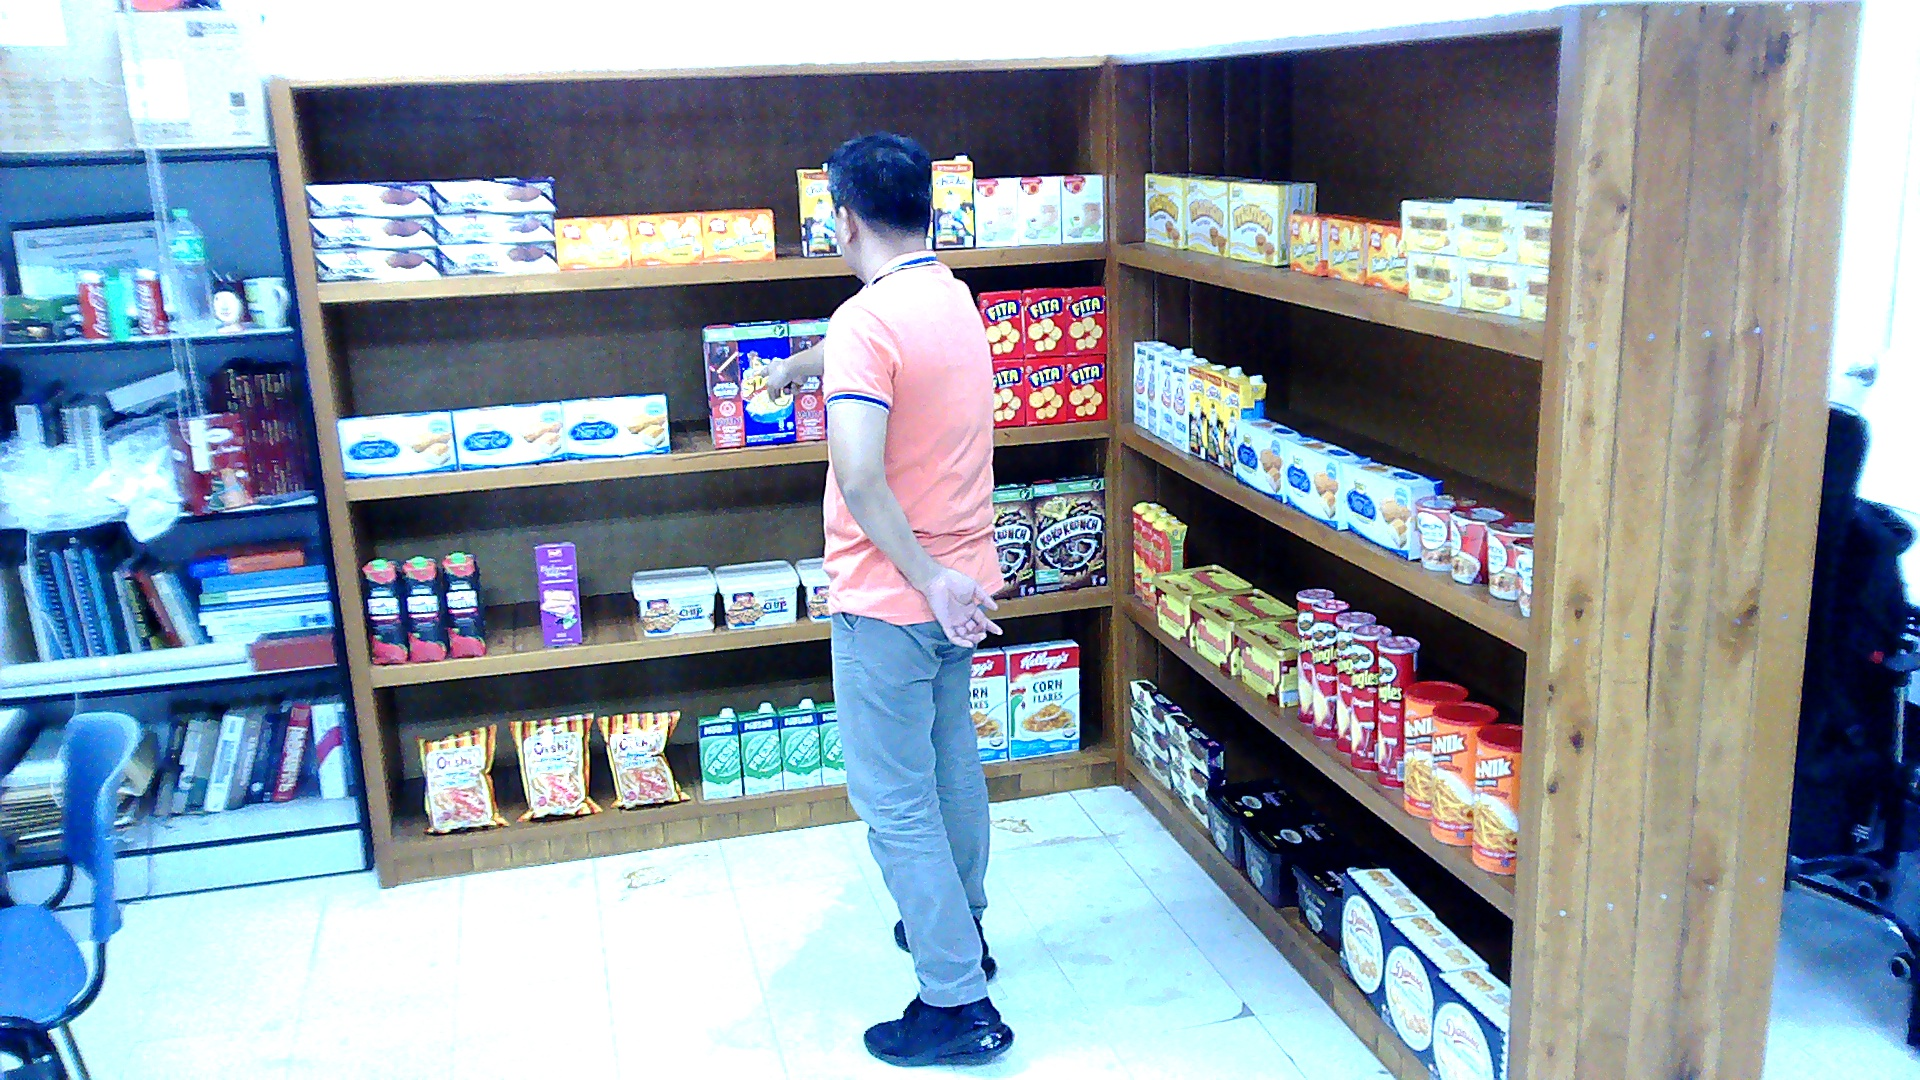Bear brand: (1170, 355, 1206, 452), (1158, 349, 1191, 441), (1134, 340, 1164, 428), (1145, 344, 1172, 434)
Buttercake: (1341, 459, 1440, 560), (1283, 434, 1370, 528), (453, 400, 567, 468), (336, 411, 453, 476), (561, 393, 669, 456), (1236, 416, 1305, 502)
Butterlicious: (552, 214, 630, 268), (627, 211, 702, 265), (1287, 211, 1350, 274), (1326, 216, 1386, 284), (699, 209, 774, 261), (1367, 220, 1406, 292)
Camomille: (1455, 198, 1518, 263), (1461, 261, 1521, 315), (1401, 200, 1455, 254), (1407, 254, 1461, 306), (1515, 202, 1551, 265), (1521, 268, 1548, 322)
Choco Crunchies: (429, 178, 555, 214), (312, 245, 438, 281), (308, 214, 437, 248), (306, 182, 432, 216), (438, 241, 555, 275), (431, 211, 554, 243), (1164, 711, 1224, 776), (1166, 740, 1223, 799), (1131, 677, 1182, 736), (1169, 767, 1208, 830), (1131, 731, 1170, 790), (1131, 707, 1167, 763)
Chocolate Chips: (629, 565, 716, 635), (711, 558, 798, 628)
Chuckie: (1224, 375, 1266, 474), (798, 162, 840, 256), (930, 153, 972, 247), (1206, 366, 1242, 467), (1188, 362, 1224, 459)
Danisa: (1380, 913, 1488, 1064), (1338, 868, 1434, 1012), (1425, 964, 1509, 1077)
Fita: (975, 290, 1023, 358), (1020, 288, 1065, 358), (1023, 355, 1065, 423), (1065, 353, 1104, 421), (1065, 288, 1104, 353), (993, 360, 1023, 425)
Fresh Milk: (735, 702, 783, 794), (696, 709, 741, 799), (777, 697, 819, 787), (812, 701, 845, 782)
Grahams: (1238, 807, 1355, 906), (1290, 846, 1398, 954), (1202, 776, 1307, 868)
Hansel: (1190, 587, 1295, 675), (1151, 564, 1250, 645), (1233, 614, 1296, 706)
Head: (825, 126, 936, 283)
Honey Stars: (699, 320, 795, 448)
Kellogg Corn Flakes: (998, 639, 1079, 758), (969, 645, 1008, 762)
Kimchi Noodles: (1449, 503, 1512, 582), (1416, 495, 1476, 569), (1485, 517, 1533, 598), (1512, 535, 1533, 616)
Koko Krunch: (1022, 472, 1103, 591), (993, 481, 1035, 598)
Locally Mango: (1130, 502, 1163, 596), (1143, 510, 1173, 611), (1152, 518, 1185, 572)
Mamon: (1230, 178, 1314, 266), (1188, 175, 1260, 256), (1146, 171, 1203, 247)
Oishi Prawn: (507, 711, 603, 819), (414, 722, 507, 832), (596, 708, 689, 809)
Pik-nik: (1428, 700, 1497, 844), (1403, 679, 1466, 819), (1469, 722, 1520, 873)
Pringles: (1377, 636, 1419, 787), (1349, 623, 1388, 769), (1335, 612, 1374, 752), (1295, 587, 1334, 724), (1311, 598, 1347, 738)
Super Fruits: (362, 558, 407, 664), (440, 551, 485, 657), (402, 556, 444, 662)
Wafer: (534, 540, 582, 643)
iHop: (1059, 173, 1101, 243), (975, 177, 1017, 245), (1017, 175, 1059, 243)
